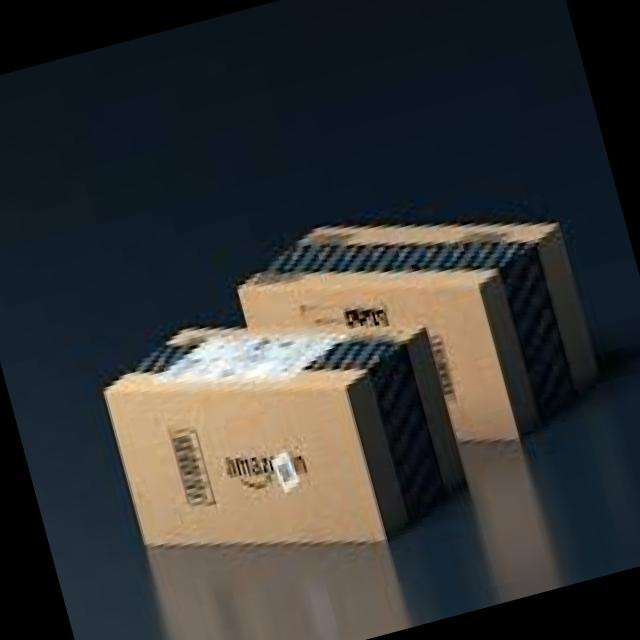box: (100, 328, 468, 550), (235, 223, 600, 445)
